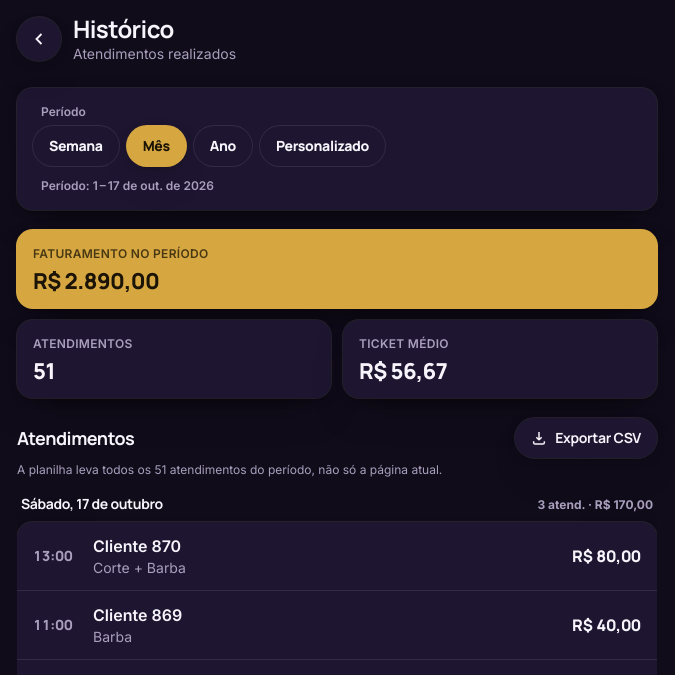
Scenario: HistoryView › validates the custom dates
The width and height of the screenshot is (675, 675).
Click the radio button labelled "Personalizado" at (322, 146), box [260,126,385,166]
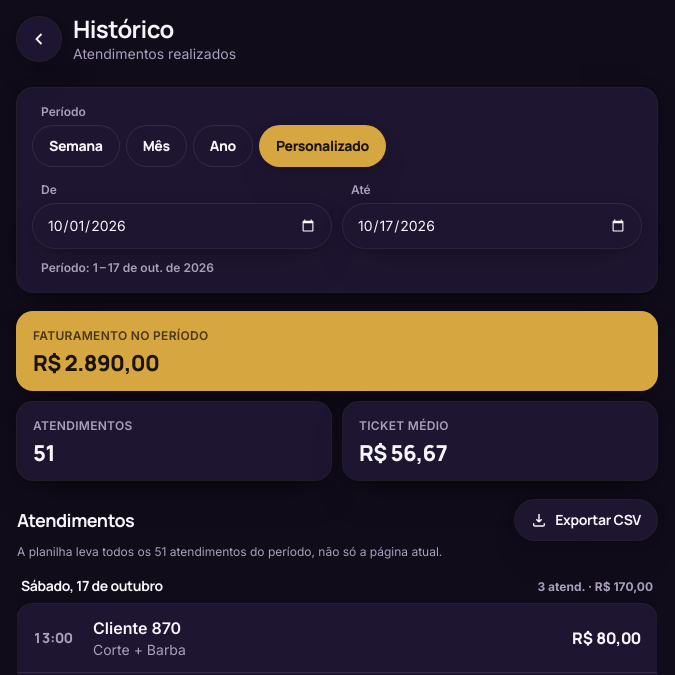
Type "2026-10-10" into the date field labelled "De" at (182, 226), box [33,204,331,248]
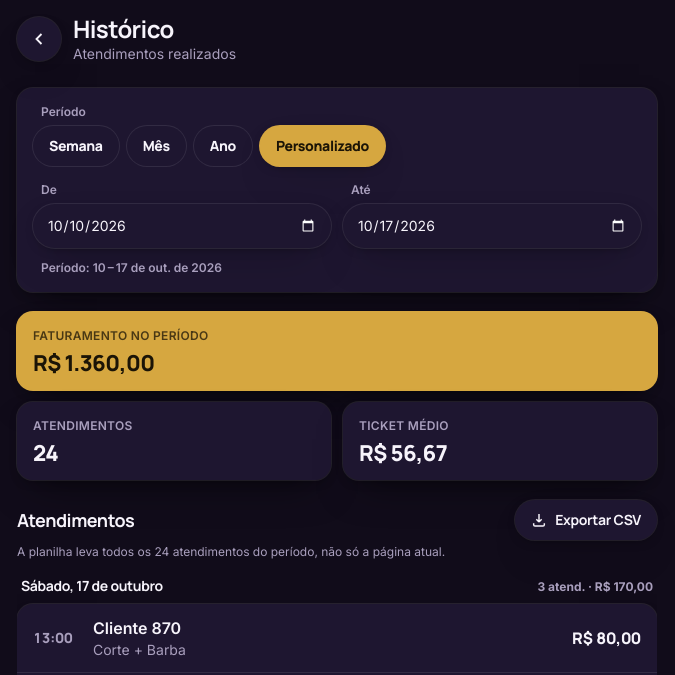
Type "2026-10-01" into the date field labelled "Até" at (492, 226), box [343,204,641,248]
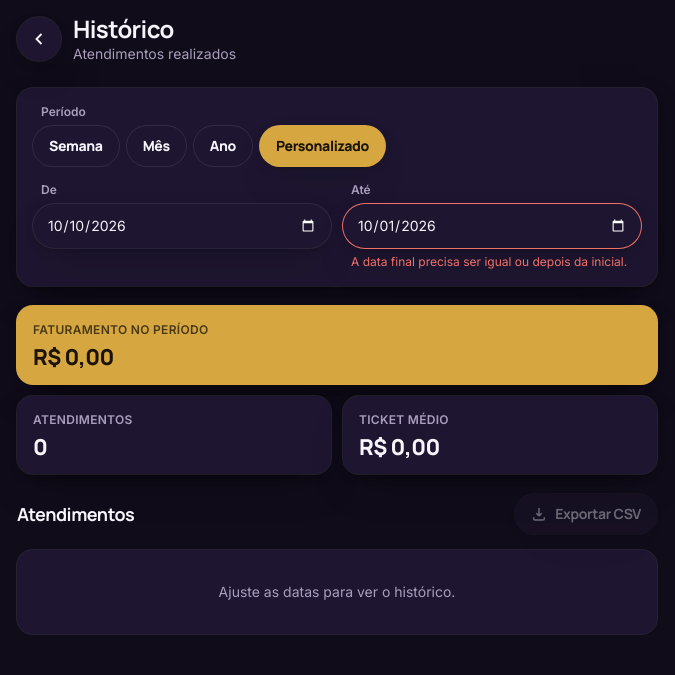
Now the text "A data final precisa ser igual ou depois da inicial." is shown, box [343,254,641,270]
Now the text "Ajuste as datas para ver o histórico." is shown, box [17,550,657,634]
